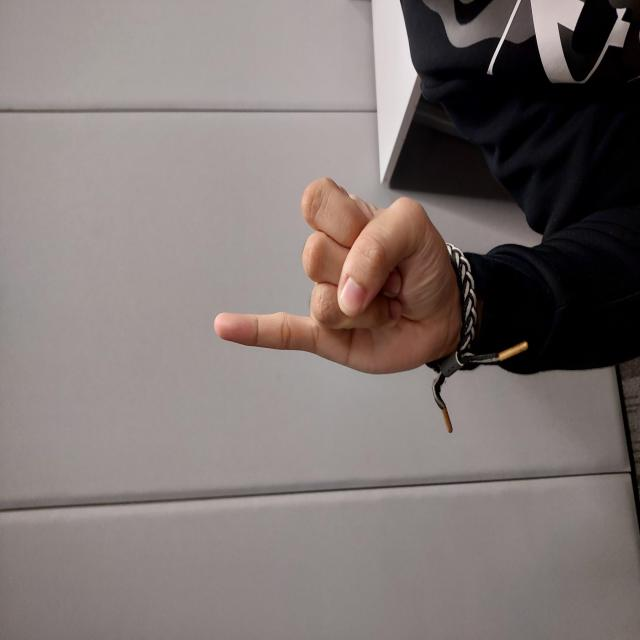I: (264, 213, 464, 477)
